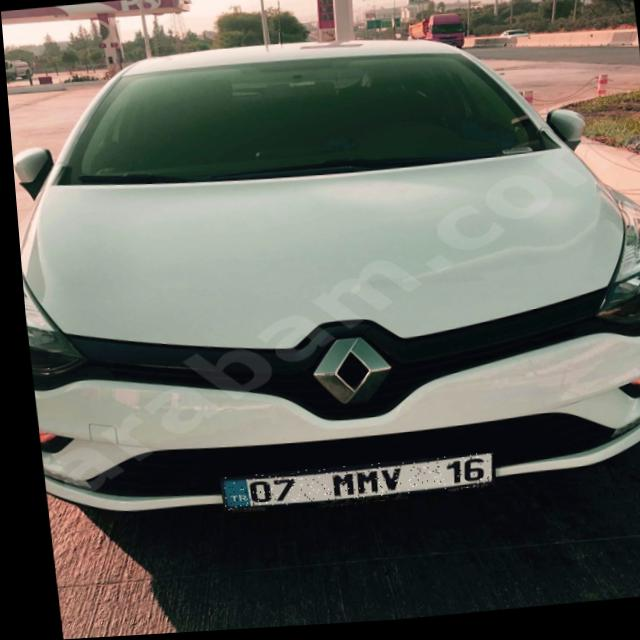license_plate: (211, 457, 487, 512)
